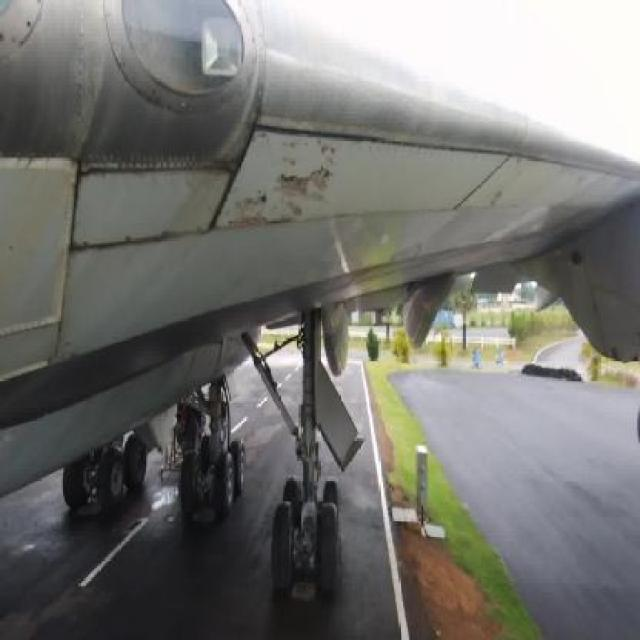Rust: (164, 183, 501, 266), (105, 173, 136, 281)
